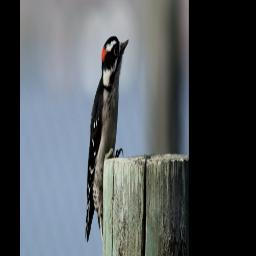Woodpecker: (84, 34, 129, 241)
